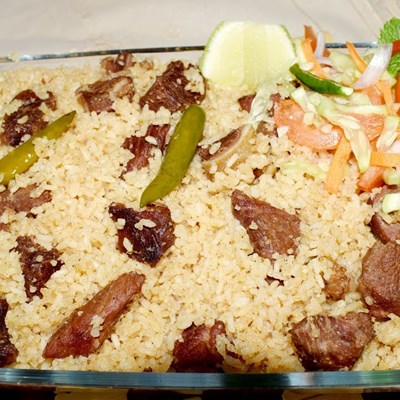tehari: (1, 17, 400, 375)
